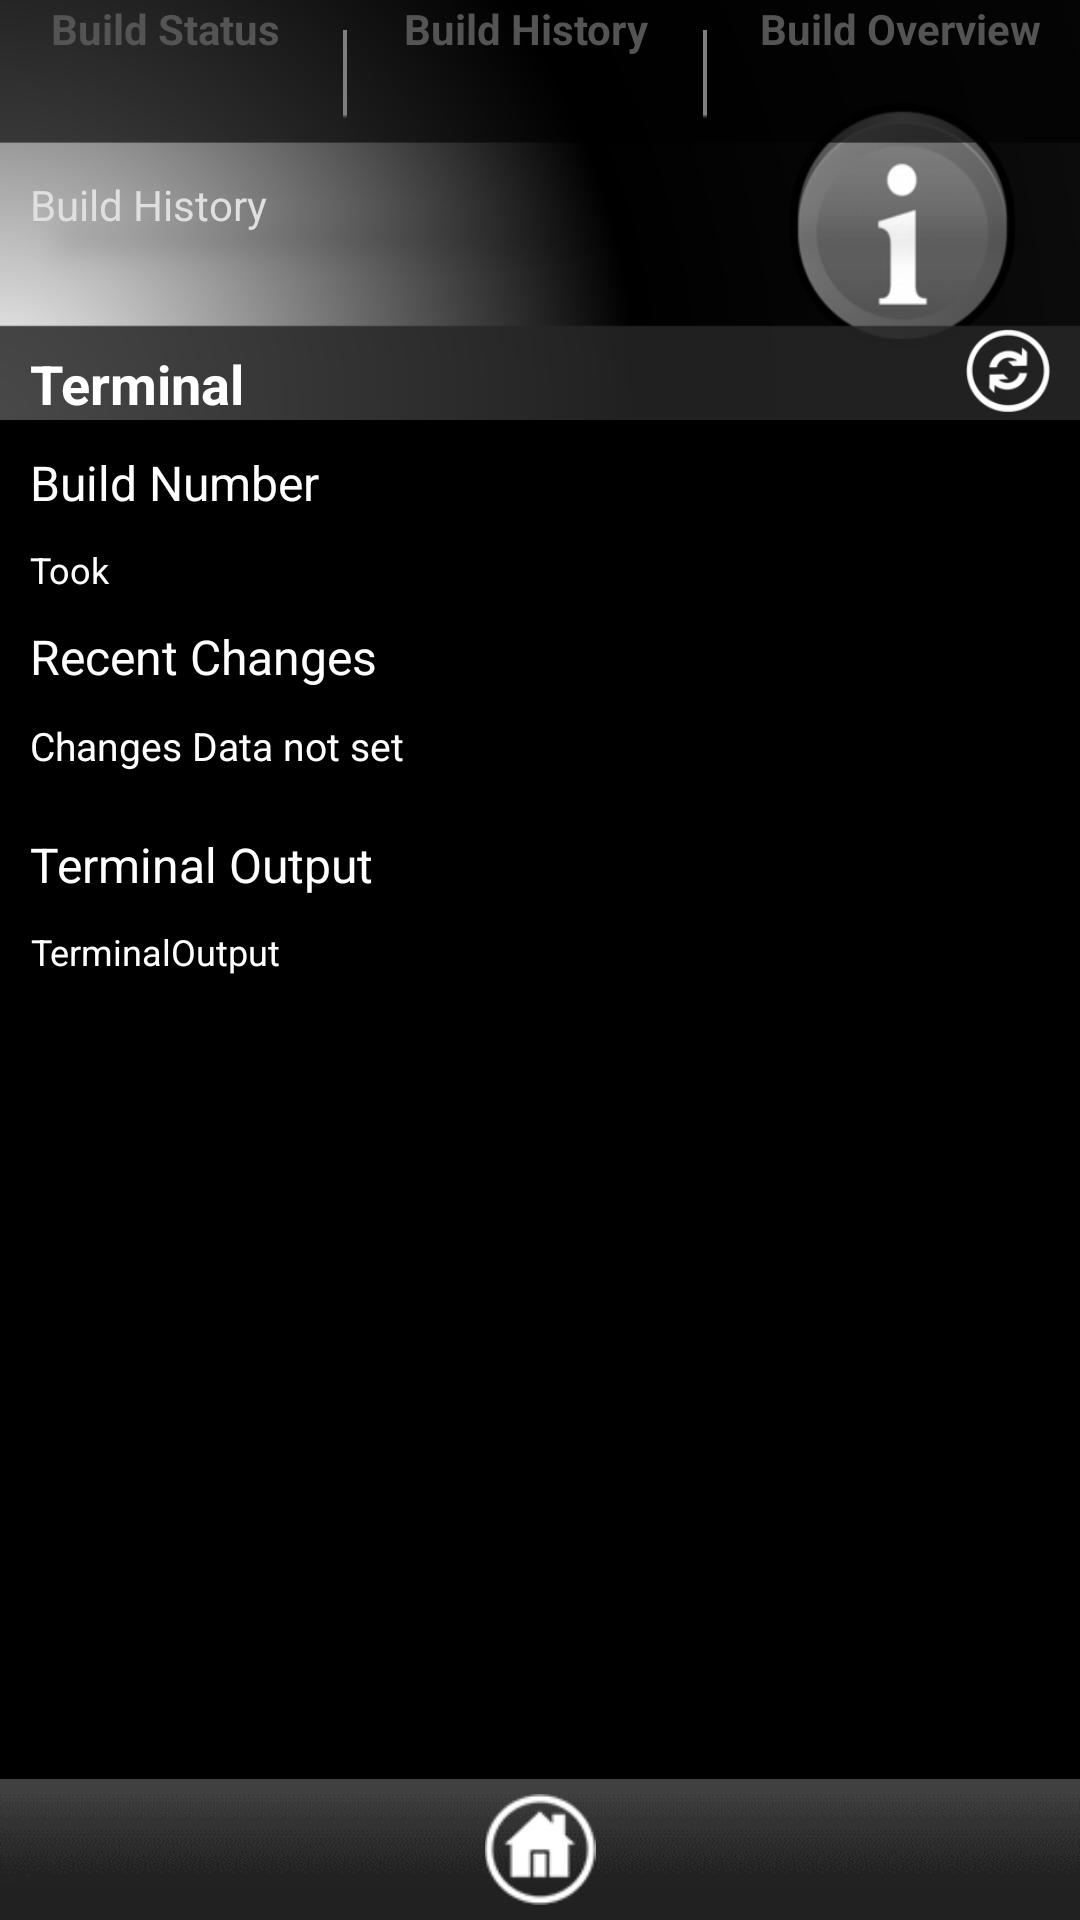

Named icons in this screenshot (1080*1920) and their centers, [x,y]:
homeicon: [540,1849]
